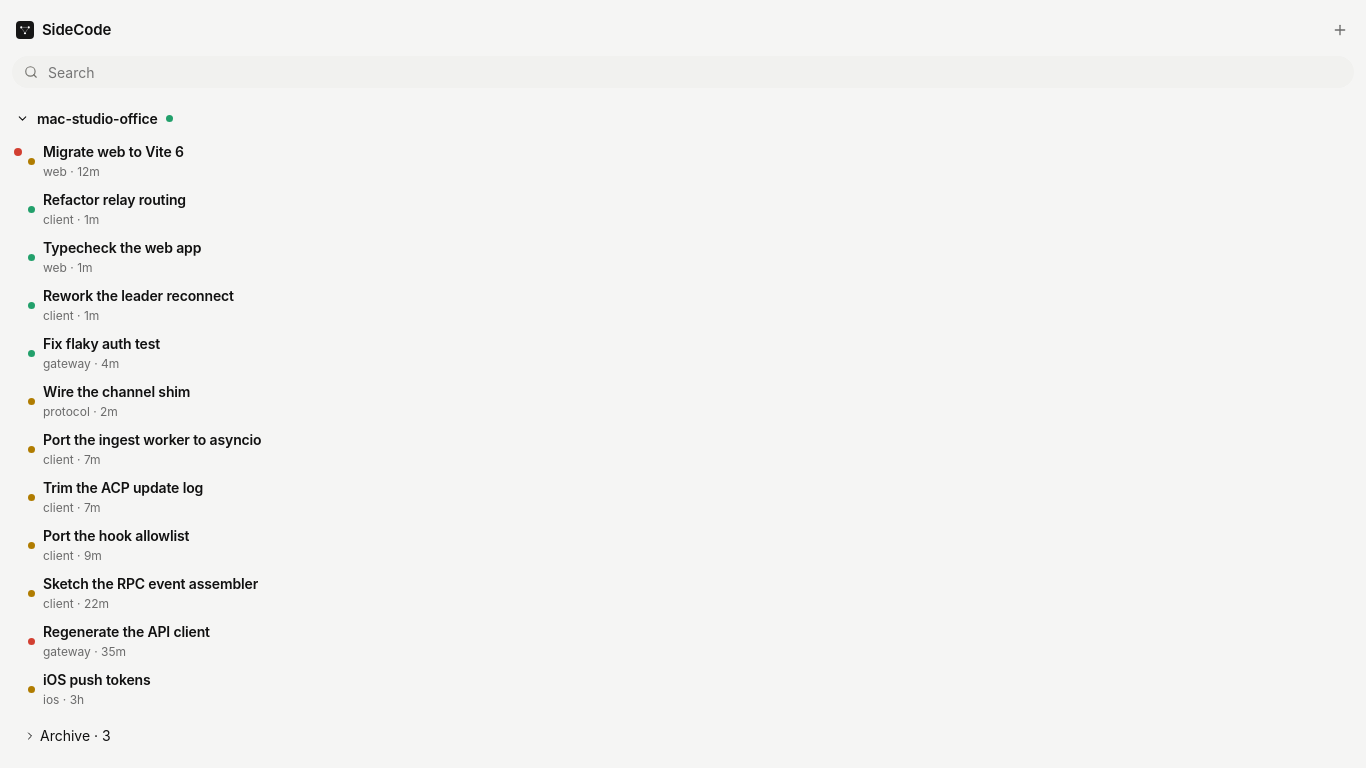
Test: the chat sidebar › opens a menu of Rename on a right-click, and the dialog from it
This screenshot has width=1366, height=768.
Right-click the list item "iOS push tokens": (683, 689) [8,665,1358,713]
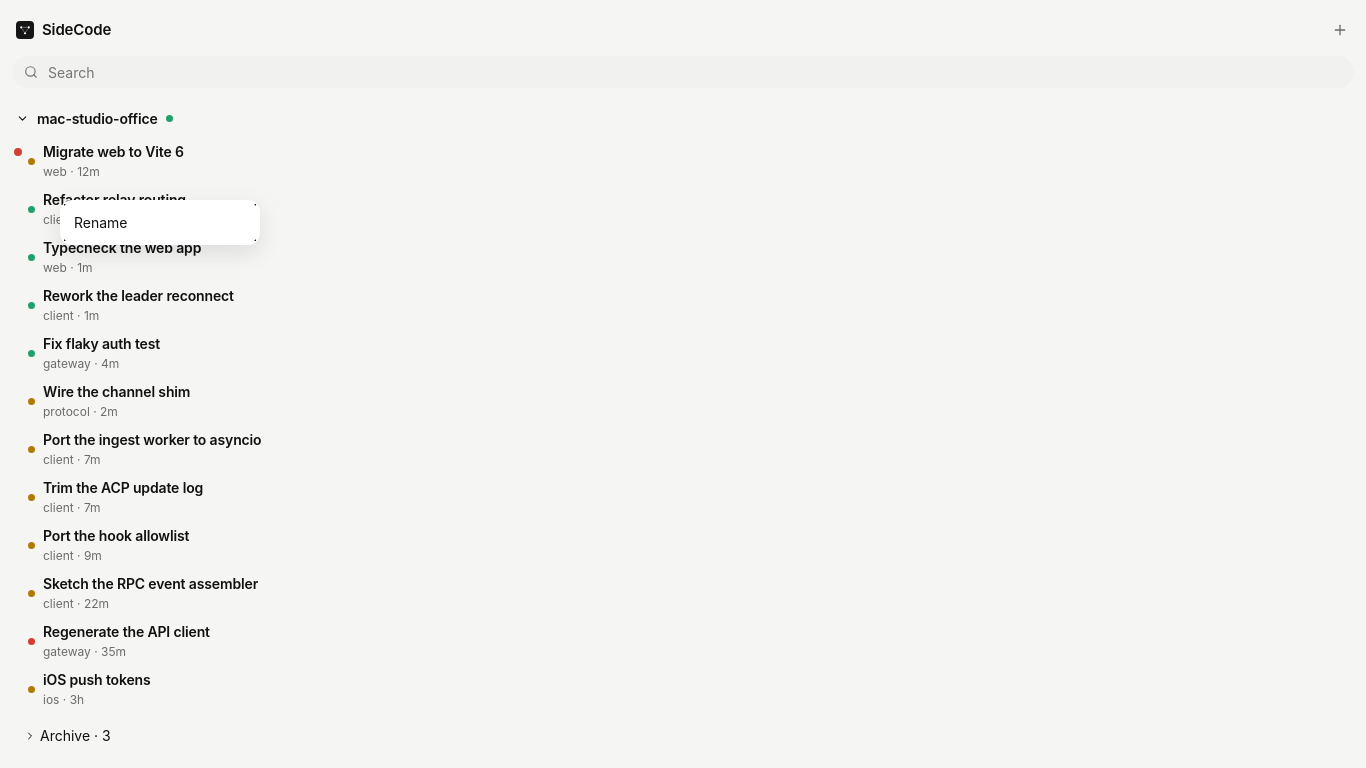
Expected: the menu items read "Rename", in this order
Click the menu item "Rename": click(160, 222) [64,204,256,241]
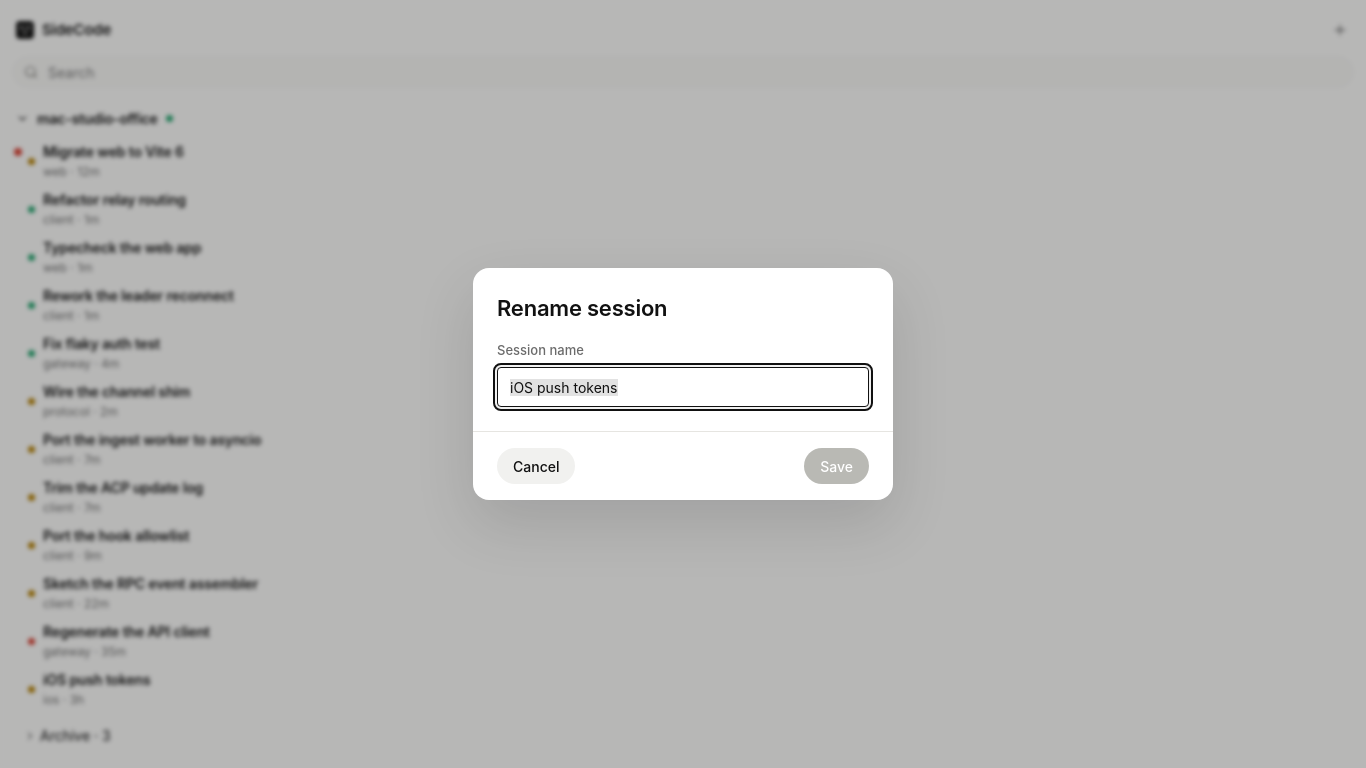
Expected: the field labelled "Session name" holds "iOS push tokens"
Clear the field labelled "Session name": (683, 387) [497,367,869,407]
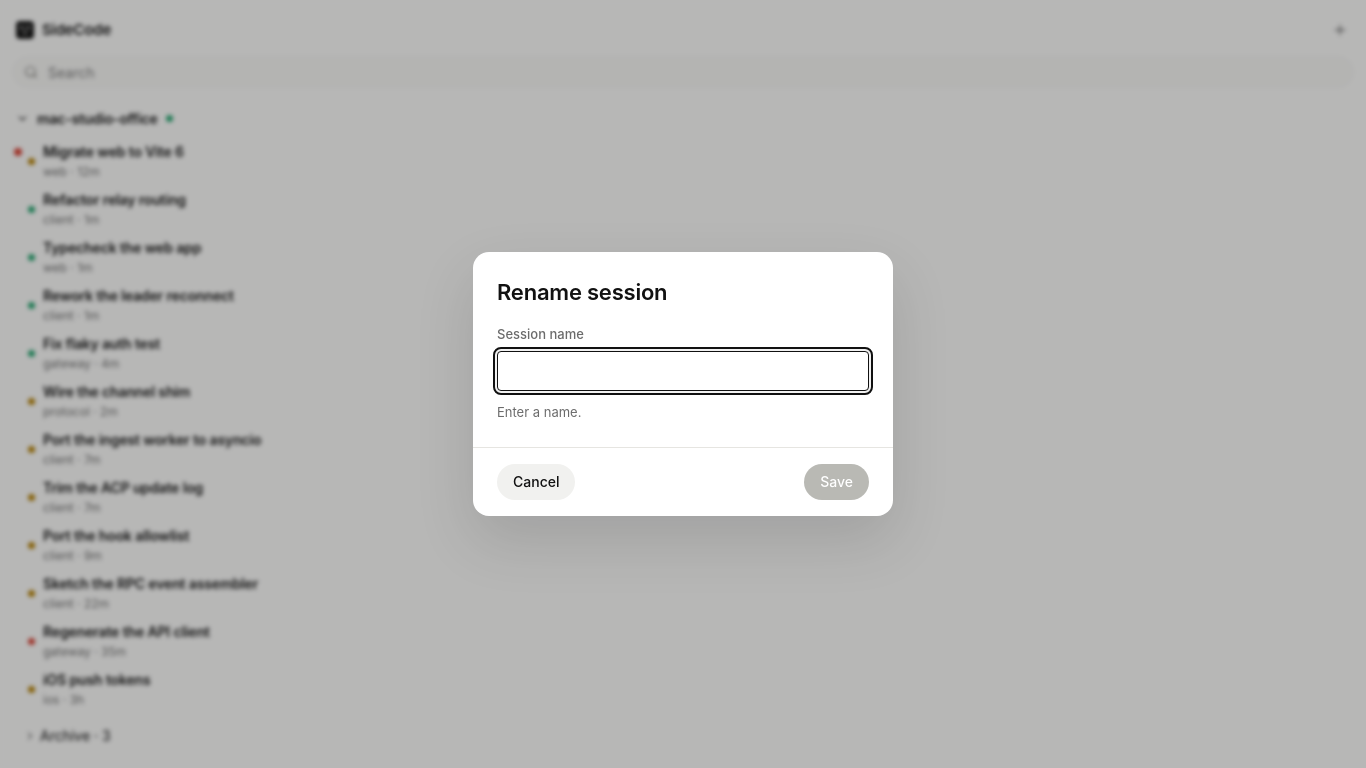
In the field labelled "Session name": (683, 371) [497,351,869,391], type "Push tokens, renamed"
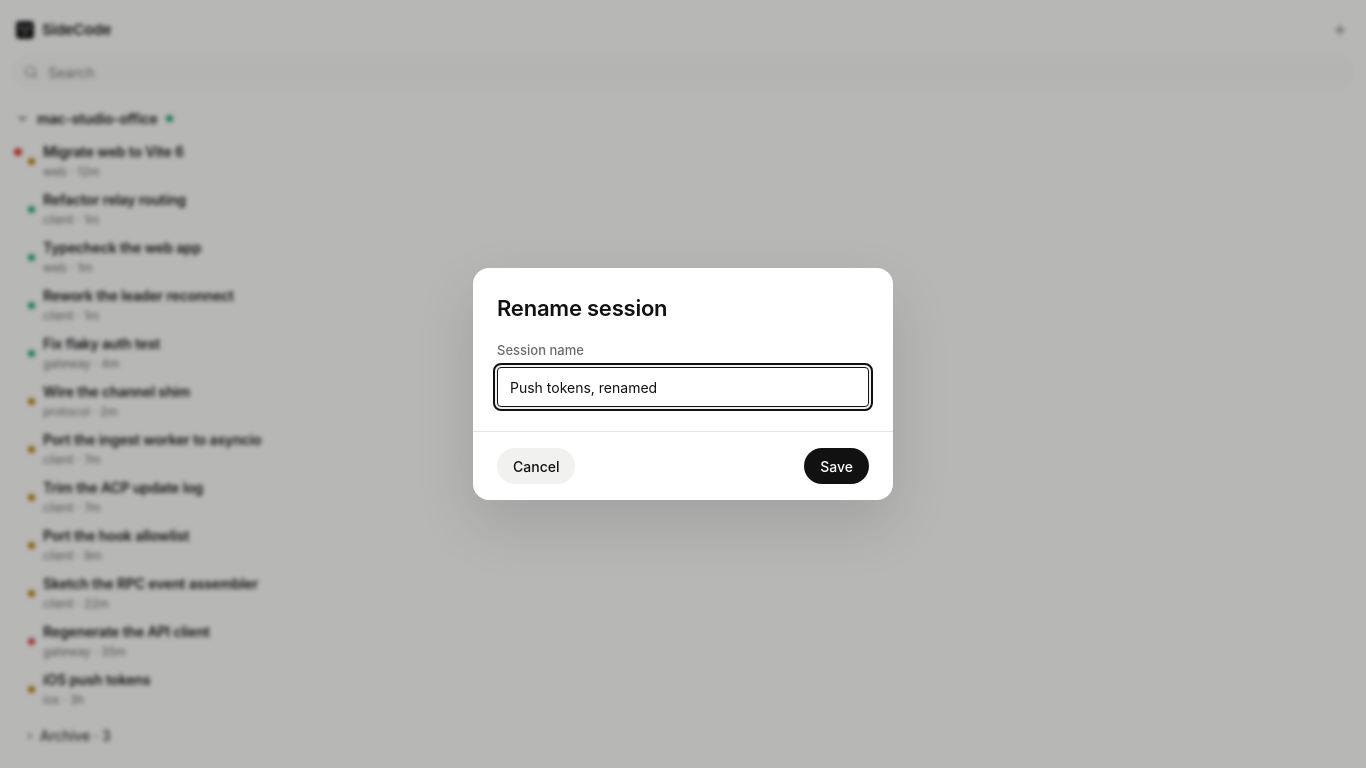
Click the button "Save": click(837, 466) [804,448,869,484]
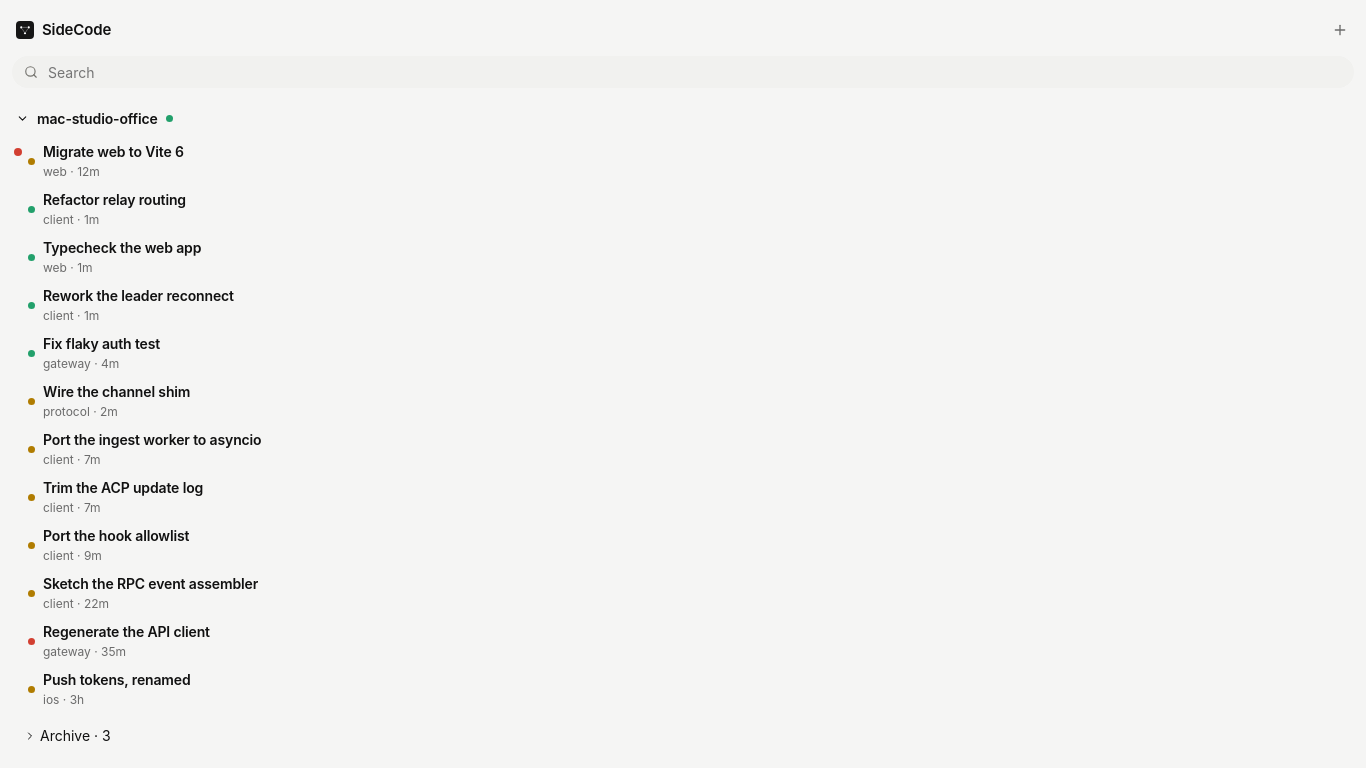
Expected: the dialog is gone
Expected: the text "Push tokens, renamed" is shown, [43,670,191,690]
Expected: the button "iOS push tokens" is gone
